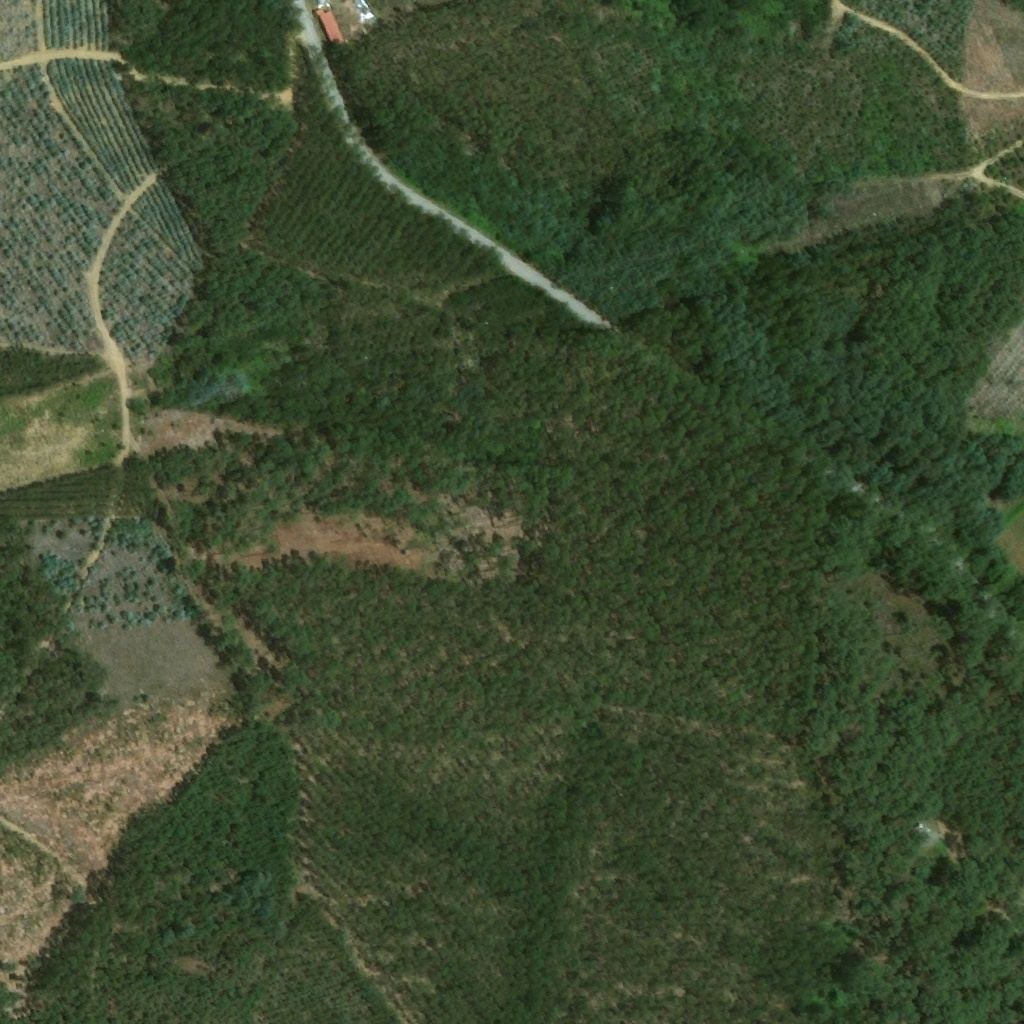0 no-damage: (312, 10, 344, 48), (918, 820, 939, 843)
4 un-classified: (313, 0, 325, 7)
